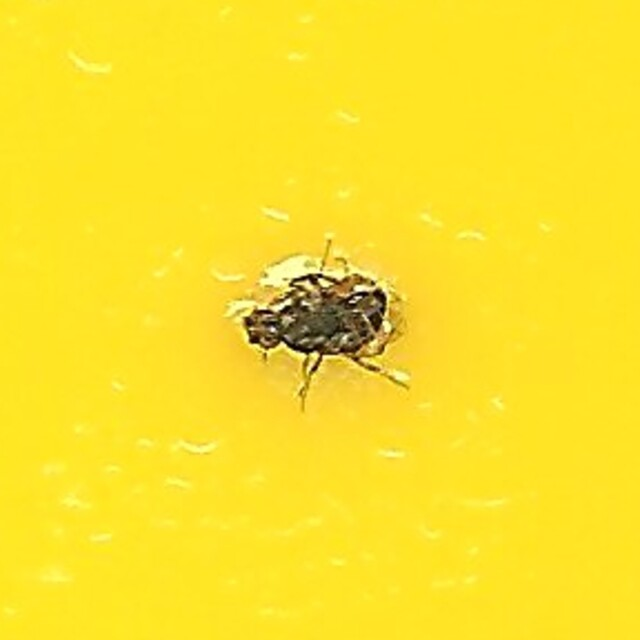Brachycera: (222, 226, 418, 414)
